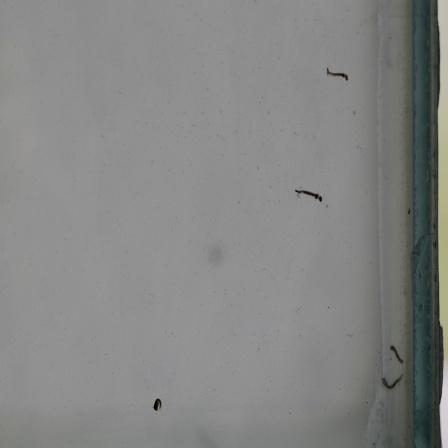Jentik-Nyamuk: (323, 62, 351, 85), (291, 185, 323, 204), (378, 373, 405, 391), (386, 343, 407, 366), (151, 395, 166, 413)
